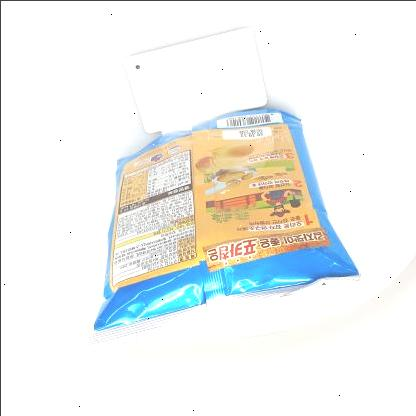Others: (67, 84, 373, 368)
